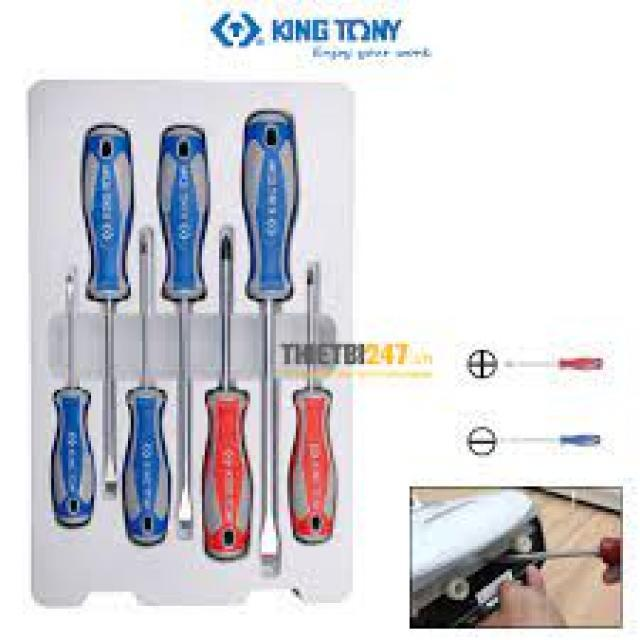screwdriver: (237, 105, 306, 563), (156, 115, 216, 545), (74, 120, 136, 503), (198, 233, 255, 566), (121, 224, 172, 554), (284, 260, 342, 550), (41, 267, 101, 529)
